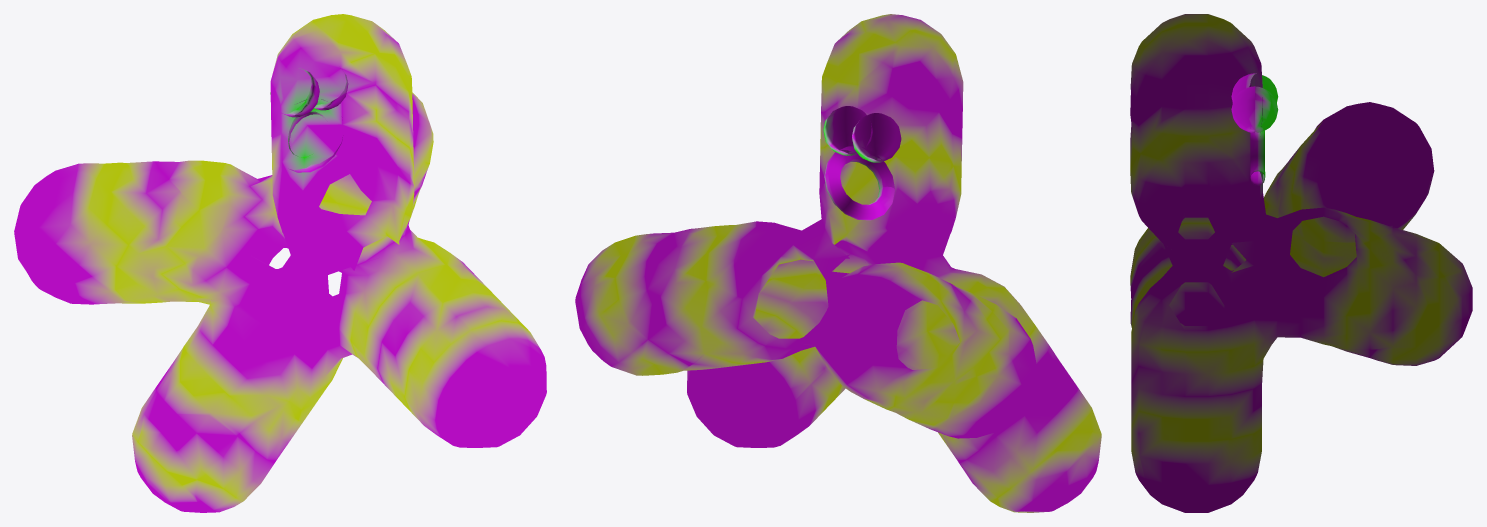
The model's file is creep.glb.
The picture shows the model from 3 angles, left to right: view 1: azimuth 30°, elevation 25°; view 2: azimuth 150°, elevation 25°; view 3: azimuth 270°, elevation 25°; orthographic projection. The views are drawn at different scales.
Visible parts, largest first — view 1: Creep; view 2: Creep; view 3: Creep.
Part boxes in pixels (<box>): Creep: <box>14,14,546,512</box>; Creep: <box>575,14,1101,512</box>; Creep: <box>1130,14,1472,512</box>.
Bounding box in the file's own units: 1.28 × 1.31 × 0.9621.
